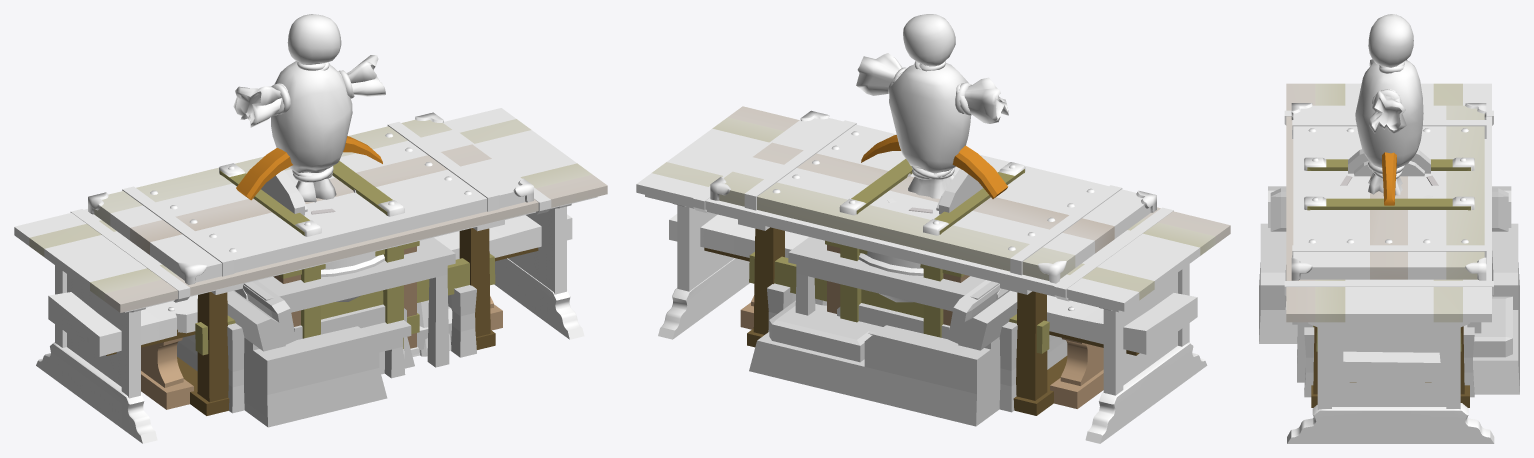
Rendered from props.glb.
3 renders of one model, left to right at view 1: azimuth 30°, elevation 25°; view 2: azimuth 150°, elevation 25°; view 3: azimuth 270°, elevation 25°, orthographic. The views are drawn at different scales.
Visible parts, largest first — view 1: Mesa de trabajo, Mesa grande, Sofá largo, Maniquí de entrenamiento, Banca, Mesa, Caja de madera, Cama, Pico, Sofá, Mesa de centro, Caldero (+1 smaller); view 2: Mesa de trabajo, Mesa grande, Sofá largo, Maniquí de entrenamiento, Banca, Mesa, Caja de madera, Cama, Pico, Sofá, Caldero, Silla acolchada; view 3: Mesa grande, Mesa de trabajo, Sofá largo, Maniquí de entrenamiento, Caja de madera, Banca, Cama, Silla acolchada, Pico, Mesa.
Boxes of the visible parts, x1,y1,x2,y2 form: Mesa de trabajo: (88,112,533,415); Mesa grande: (14,108,607,443); Sofá largo: (227,280,387,427); Maniquí de entrenamiento: (233,14,385,202); Banca: (48,214,572,409); Mesa: (243,237,455,367); Caja de madera: (219,161,419,358); Cama: (177,285,476,413); Pico: (236,136,382,200); Sofá: (294,304,414,374); Mesa de centro: (361,320,411,378); Caldero: (321,252,384,301); Mesa de trabajo: (710,110,1156,415); Mesa grande: (636,106,1230,443); Sofá largo: (749,280,1017,426); Maniquí de entrenamiento: (856,14,1008,198); Banca: (669,214,1197,408); Mesa: (788,237,999,315); Caja de madera: (825,159,1025,337); Cama: (767,283,1067,412); Pico: (861,135,1007,198); Sofá: (837,303,949,338); Caldero: (859,251,923,302); Silla acolchada: (936,168,982,212); Mesa grande: (1284,83,1494,443); Mesa de trabajo: (1291,103,1486,407); Sofá largo: (1259,186,1519,394); Maniquí de entrenamiento: (1355,14,1423,195); Caja de madera: (1304,157,1474,327); Banca: (1343,351,1440,382); Cama: (1304,327,1474,397); Silla acolchada: (1348,149,1430,176); Pico: (1382,152,1396,205); Mesa: (1297,322,1481,382).
Size of the model in its own units: 2.85 by 1.86 by 1.36.
